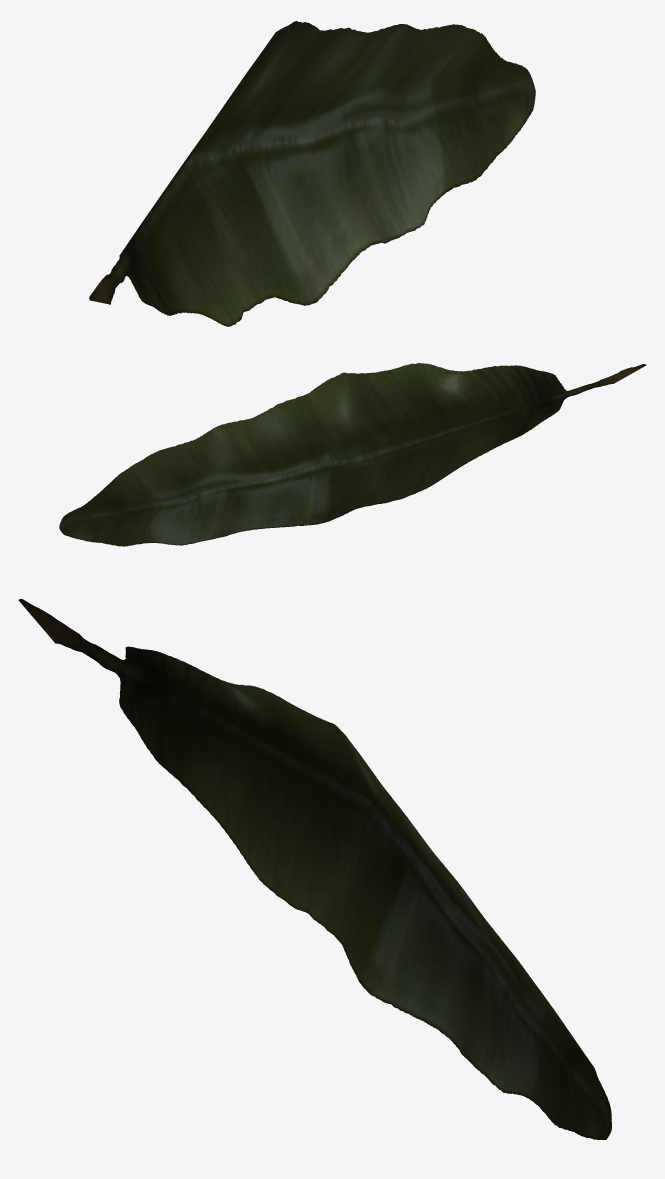
Rendered from MEP_Palm_Part_03_S.fbx.
The picture shows the model from 3 angles, top to bottom: view 1: azimuth 30°, elevation 25°; view 2: azimuth 150°, elevation 25°; view 3: azimuth 270°, elevation 25°; orthographic projection. The views are drawn at different scales.
Visible parts, largest first — view 1: MEP_Palm_Part_03_S; view 2: MEP_Palm_Part_03_S; view 3: MEP_Palm_Part_03_S.
Part boxes in pixels (x1,y1,x2,y2): MEP_Palm_Part_03_S: (89,21,535,326); MEP_Palm_Part_03_S: (59,363,646,546); MEP_Palm_Part_03_S: (18,599,611,1139).
Bounding box in the file's own units: 1.37 × 0.5781 × 1.05.
